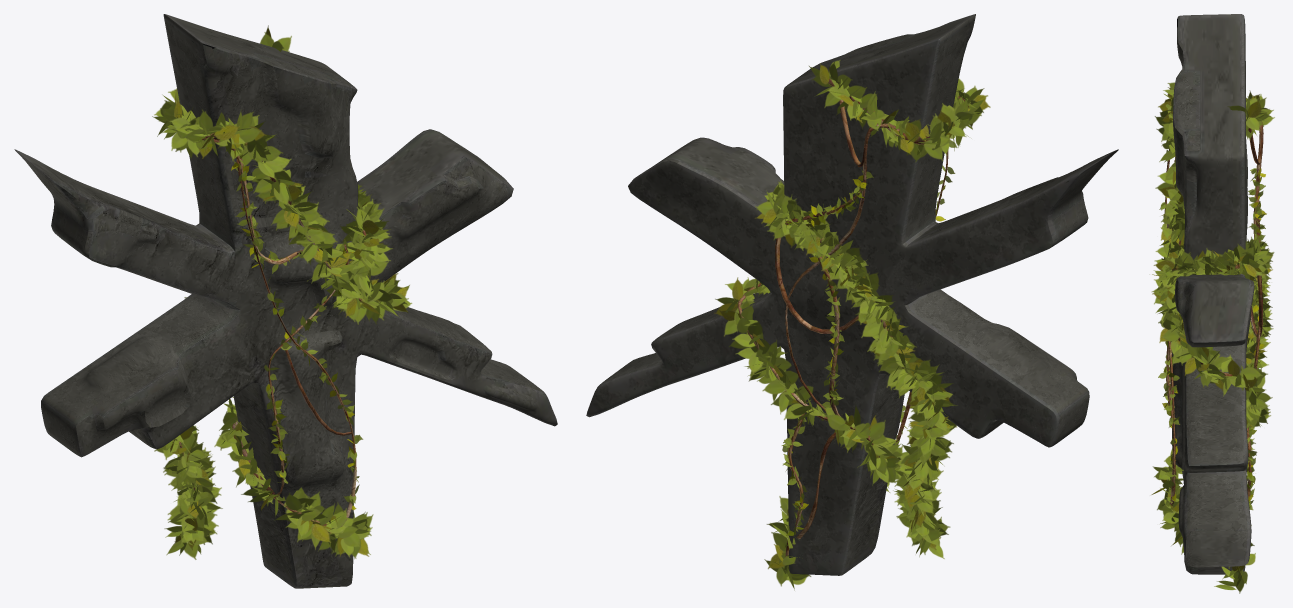
The model's file is star-transformed.glb.
The picture shows the model from 3 angles, left to right: view 1: azimuth 30°, elevation 25°; view 2: azimuth 150°, elevation 25°; view 3: azimuth 270°, elevation 25°; orthographic projection. The views are drawn at different scales.
Parts seen in each view (by area): view 1: Rock, FLMain02, FLMain01, FLsec, Main02; view 2: Rock, FLMain02, FLMain01, Main02, FLsec; view 3: Rock, FLMain02, FLMain01, FLsec, Main02.
Boxes of the visible parts, left/top/right/bottom form: Rock: left=14, top=14, right=557, bottom=588; FLMain02: left=152, top=25, right=412, bottom=558; FLMain01: left=154, top=184, right=392, bottom=559; FLsec: left=193, top=132, right=363, bottom=539; Main02: left=179, top=133, right=366, bottom=533; Rock: left=586, top=14, right=1118, bottom=575; FLMain02: left=714, top=60, right=990, bottom=590; FLMain01: left=755, top=180, right=957, bottom=558; Main02: left=738, top=79, right=968, bottom=556; FLsec: left=781, top=107, right=969, bottom=546; Rock: left=1172, top=14, right=1254, bottom=574; FLMain02: left=1151, top=82, right=1274, bottom=593; FLMain01: left=1151, top=236, right=1274, bottom=468; FLsec: left=1158, top=138, right=1270, bottom=525; Main02: left=1164, top=118, right=1263, bottom=571.
Bounding box in the file's own units: 3.67 × 4.15 × 0.9597.
4 materials, 4 textured.
